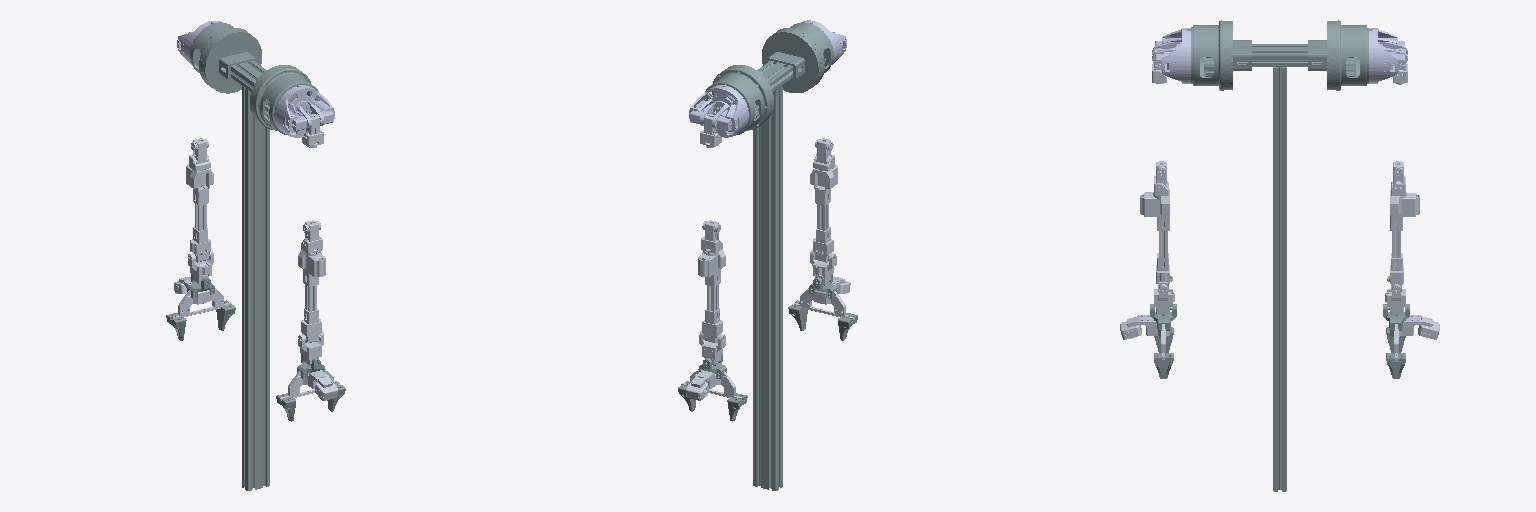
--- What the picture shows (computed from the rendered views, not written in the file) ---
Views: 3 orthographic renders of the robot side by side, from view 1: azimuth 30°, elevation 25°; view 2: azimuth 150°, elevation 25°; view 3: azimuth 270°, elevation 25°.
Model bessica_d_v2_1 with 23 links and 22 joints (14 revolute, 4 prismatic, 4 fixed), rooted at base_link, posed all joints at 0.
Links seen in each view (by area): view 1: base_link, left_arm_base_link, right_arm_base_link, right_arm_link1, right_arm_link5, left_arm_link5, right_arm_gripper_base, left_arm_gripper_base, left_arm_link4, right_arm_link4; view 2: base_link, right_arm_base_link, left_arm_base_link, left_arm_link1, left_arm_link5, right_arm_link5, left_arm_gripper_base, right_arm_gripper_base, right_arm_link4, left_arm_link4; view 3: base_link, right_arm_base_link, left_arm_base_link, left_arm_link1, right_arm_link1, right_arm_link5, left_arm_link5, left_arm_gripper_base, right_arm_gripper_base.
Link boxes in pixels (box(x1,y1,x2,y2)): base_link: box(224, 61, 269, 490); left_arm_base_link: box(190, 22, 261, 93); right_arm_base_link: box(250, 65, 318, 134); right_arm_link1: box(275, 85, 334, 137); right_arm_link5: box(298, 249, 325, 342); left_arm_link5: box(186, 164, 213, 262); right_arm_gripper_base: box(280, 369, 340, 400); left_arm_gripper_base: box(171, 277, 231, 318); left_arm_link4: box(189, 138, 210, 171); right_arm_link4: box(301, 220, 322, 253); base_link: box(753, 61, 799, 490); right_arm_base_link: box(762, 22, 833, 92); left_arm_base_link: box(705, 65, 773, 134); left_arm_link1: box(689, 84, 748, 137); left_arm_link5: box(698, 249, 725, 342); right_arm_link5: box(810, 164, 837, 262); left_arm_gripper_base: box(681, 369, 741, 400); right_arm_gripper_base: box(794, 277, 854, 320); right_arm_link4: box(813, 138, 834, 171); left_arm_link4: box(701, 220, 722, 253); base_link: box(1237, 44, 1322, 491); right_arm_base_link: box(1191, 20, 1251, 90); left_arm_base_link: box(1308, 20, 1368, 90); left_arm_link1: box(1369, 28, 1407, 83); right_arm_link1: box(1152, 28, 1190, 83); right_arm_link5: box(1140, 189, 1172, 291); left_arm_link5: box(1387, 190, 1419, 291); left_arm_gripper_base: box(1390, 315, 1439, 360); right_arm_gripper_base: box(1120, 315, 1169, 358).
Bounding box of the posed robot: 0.1604 × 0.6833 × 1.09 m (x, y, z).
21 mesh visuals loaded from 23 distinct referenced files (21 binary STL); not drawn: 2 (reference not matched to a file when rendering).

URDF robot description (bessica_d_v2_1):
<?xml version="1.0" encoding="utf-8" ?>
<!-- This URDF was automatically created by SolidWorks to URDF Exporter! Originally created by Stephen Brawner ([email redacted]) 
     Commit Version: 1.6.0-4-g7f85cfe  Build Version: 1.6.7995.38578
     For more information, please see http://wiki.ros.org/sw_urdf_exporter -->
<robot name="bessica_d_v2_1">
    <mujoco>
        <compiler meshdir="../meshes" balanceinertia="true" discardvisual="false" />
        <contact>
            <exclude body1="base_link" body2="left_arm_base_link" />
            <exclude body1="left_arm_base_link" body2="left_arm_link1" />
            <exclude body1="left_arm_link1" body2="left_arm_link2" />
            <exclude body1="left_arm_link2" body2="left_arm_link3" />
            <exclude body1="left_arm_link3" body2="left_arm_link4" />
            <exclude body1="left_arm_link4" body2="left_arm_link5" />
            <exclude body1="left_arm_link5" body2="left_arm_link6" />
            <exclude body1="left_arm_link6" body2="left_arm_link7" />
            <exclude body1="left_arm_link7" body2="left_arm_gripper_left_finger" />
            <exclude body1="left_arm_link7" body2="left_arm_gripper_right_finger" />
            <exclude body1="base_link" body2="right_arm_base_link" />
            <exclude body1="right_arm_base_link" body2="right_arm_link1" />
            <exclude body1="right_arm_link1" body2="right_arm_link2" />
            <exclude body1="right_arm_link2" body2="right_arm_link3" />
            <exclude body1="right_arm_link3" body2="right_arm_link4" />
            <exclude body1="right_arm_link4" body2="right_arm_link5" />
            <exclude body1="right_arm_link5" body2="right_arm_link6" />
            <exclude body1="right_arm_link6" body2="right_arm_link7" />
            <exclude body1="right_arm_link7" body2="right_arm_gripper_left_finger" />
            <exclude body1="right_arm_link7" body2="right_arm_gripper_right_finger" />
        </contact>
    </mujoco>
    <link name="base_link">
        <visual>
            <origin xyz="0 0 0" rpy="0 0 0" />
            <geometry>
                <mesh filename="package://bessica_d_description/meshes/base_link.STL" />
            </geometry>
            <material name="">
                <color rgba="0.592156862745098 0.666666666666667 0.682352941176471 1" />
            </material>
        </visual>
        <collision>
            <origin xyz="0 0 0" rpy="0 0 0" />
            <geometry>
                <mesh filename="package://bessica_d_description/meshes/base_link.STL" />
            </geometry>
        </collision>
        <inertial>
            <mass value="0.1" />
            <origin xyz="0 0 0" rpy="0 0 0" />
            <inertia ixx="0.03" iyy="0.03" izz="0.03" ixy="0.0" ixz="0.0" iyz="0.0" />
        </inertial>
    </link>
    <link name="left_arm_base_link">
        <visual>
            <origin xyz="0 0 0" rpy="0 0 0" />
            <geometry>
                <mesh filename="package://bessica_d_description/meshes/left_arm_base_link.STL" />
            </geometry>
            <material name="">
                <color rgba="0.592156862745098 0.666666666666667 0.682352941176471 1" />
            </material>
        </visual>
        <collision>
            <origin xyz="0 0 0" rpy="0 0 0" />
            <geometry>
                <mesh filename="package://bessica_d_description/meshes/left_arm_base_link.STL" />
            </geometry>
        </collision>
        <inertial>
            <mass value="0.1" />
            <origin xyz="0 0 0" rpy="0 0 0" />
            <inertia ixx="0.03" iyy="0.03" izz="0.03" ixy="0.0" ixz="0.0" iyz="0.0" />
        </inertial>
    </link>
    <joint name="left_arm_base_joint" type="fixed">
        <origin xyz="0 0.1 1.01500000066667" rpy="-1.5707963267949 0 0" />
        <parent link="base_link" />
        <child link="left_arm_base_link" />
        <axis xyz="0 0 0" />
    </joint>
    <link name="left_arm_link1">
        <inertial>
            <origin xyz="-0.000164977722784185 6.51727945009444E-05 -0.00243570338411384" rpy="0 0 0" />
            <mass value="0.189922225867714" />
            <inertia ixx="0.000146347772116188" ixy="8.97185586680608E-07" ixz="-1.12252162303393E-06" iyy="0.000249759799894508" iyz="-4.11548403173903E-07" izz="0.000330262694467369" />
        </inertial>
        <visual>
            <origin xyz="0 0 0" rpy="0 0 0" />
            <geometry>
                <mesh filename="package://bessica_d_description/meshes/left_arm_link1.STL" />
            </geometry>
            <material name="">
                <color rgba="0.796078431372549 0.823529411764706 0.937254901960784 1" />
            </material>
        </visual>
        <collision>
            <origin xyz="0 0 0" rpy="0 0 0" />
            <geometry>
                <mesh filename="package://bessica_d_description/meshes/left_arm_link1.STL" />
            </geometry>
        </collision>
    </link>
    <joint name="left_arm_joint1" type="revolute">
        <origin xyz="0 0 0.1145" rpy="3.14159265358979 0 0" />
        <parent link="left_arm_base_link" />
        <child link="left_arm_link1" />
        <axis xyz="0 0 1" />
        <limit lower="-2.14" upper="2.14" effort="12" velocity="5" />
    </joint>
    <link name="left_arm_link2">
        <inertial>
            <origin xyz="0.0292978987910792 0.000514105850466684 0.000371089505223361" rpy="0 0 0" />
            <mass value="0.0465252707223917" />
            <inertia ixx="7.30112380112833E-06" ixy="5.76060636775077E-07" ixz="-1.43192461618647E-06" iyy="1.56957054082706E-05" iyz="-1.34505028400512E-08" izz="1.49256044559259E-05" />
        </inertial>
        <visual>
            <origin xyz="0 0 0" rpy="0 0 0" />
            <geometry>
                <mesh filename="package://bessica_d_description/meshes/left_arm_link2.STL" />
            </geometry>
            <material name="">
                <color rgba="0.807843137254902 0.843137254901961 0.905882352941176 1" />
            </material>
        </visual>
        <collision>
            <origin xyz="0 0 0" rpy="0 0 0" />
            <geometry>
                <mesh filename="package://bessica_d_description/meshes/left_arm_link2.STL" />
            </geometry>
        </collision>
    </link>
    <joint name="left_arm_joint2" type="revolute">
        <origin xyz="0.000449999999998569 0 -0.04287" rpy="-1.5707963267949 0 -1.5707963267949" />
        <parent link="left_arm_link1" />
        <child link="left_arm_link2" />
        <axis xyz="0 0 1" />
        <limit lower="-0.25" upper="2.14" effort="12" velocity="5" />
    </joint>
    <link name="left_arm_link3">
        <inertial>
            <origin xyz="0.000585816890663893 2.67134447653953E-05 -0.120888401586103" rpy="0 0 0" />
            <mass value="0.213446468640546" />
            <inertia ixx="0.000225589752278573" ixy="-1.5155044694364E-08" ixz="2.43597245450492E-06" iyy="0.00014335125310894" iyz="-7.17913825480148E-08" izz="0.000161898121849544" />
        </inertial>
        <visual>
            <origin xyz="0 0 0" rpy="0 0 0" />
            <geometry>
                <mesh filename="package://bessica_d_description/meshes/left_arm_link3.STL" />
            </geometry>
            <material name="">
                <color rgba="0.807843137254902 0.843137254901961 0.905882352941176 1" />
            </material>
        </visual>
        <collision>
            <origin xyz="0 0 0" rpy="0 0 0" />
            <geometry>
                <mesh filename="package://bessica_d_description/meshes/left_arm_link3.STL" />
            </geometry>
        </collision>
    </link>
    <joint name="left_arm_joint3" type="revolute">
        <origin xyz="0.0639500000000051 -0.000100000000002043 -5.00000000017345E-05" rpy="1.5707963267949 0 -1.5707963267949" />
        <parent link="left_arm_link2" />
        <child link="left_arm_link3" />
        <axis xyz="0 0 -1" />
        <limit lower="-2.14" upper="2.14" effort="12" velocity="5" />
    </joint>
    <link name="left_arm_link4">
        <inertial>
            <origin xyz="-0.000541938878743597 0.0284058061970648 0.000320347235384871" rpy="0 0 0" />
            <mass value="0.0480071391158091" />
            <inertia ixx="1.64141913891155E-05" ixy="-5.7845673769066E-07" ixz="9.62946752561962E-09" iyy="7.54093815008541E-06" iyz="-1.52193904000395E-06" izz="1.55133391025038E-05" />
        </inertial>
        <visual>
            <origin xyz="0 0 0" rpy="0 0 0" />
            <geometry>
                <mesh filename="package://bessica_d_description/meshes/left_arm_link4.STL" />
            </geometry>
            <material name="">
                <color rgba="0.807843137254902 0.843137254901961 0.905882352941176 1" />
            </material>
        </visual>
        <collision>
            <origin xyz="0 0 0" rpy="0 0 0" />
            <geometry>
                <mesh filename="package://bessica_d_description/meshes/left_arm_link4.STL" />
            </geometry>
        </collision>
    </link>
    <joint name="left_arm_joint4" type="revolute">
        <origin xyz="0.00383999999999851 5.0000000004364E-05 -0.202609999999996" rpy="-1.57079632679489 0 0" />
        <parent link="left_arm_link3" />
        <child link="left_arm_link4" />
        <axis xyz="0 0 1" />
        <limit lower="-1.57" upper="1.57" effort="12" velocity="5" />
    </joint>
    <link name="left_arm_link5">
        <inertial>
            <origin xyz="-0.000910668202409481 -0.000236818946050908 -0.0811518411270211" rpy="0 0 0" />
            <mass value="0.116319653363722" />
            <inertia ixx="9.32787799992093E-05" ixy="-1.43207862251841E-08" ixz="3.45337326970064E-06" iyy="0.000100263941574271" iyz="1.15839563826208E-07" izz="3.8226465560725E-05" />
        </inertial>
        <visual>
            <origin xyz="0 0 0" rpy="0 0 0" />
            <geometry>
                <mesh filename="package://bessica_d_description/meshes/left_arm_link5.STL" />
            </geometry>
            <material name="">
                <color rgba="0.807843137254902 0.843137254901961 0.905882352941176 1" />
            </material>
        </visual>
        <collision>
            <origin xyz="0 0 0" rpy="0 0 0" />
            <geometry>
                <mesh filename="package://bessica_d_description/meshes/left_arm_link5.STL" />
            </geometry>
        </collision>
    </link>
    <joint name="left_arm_joint5" type="revolute">
        <origin xyz="0 0.0639500000000003 -0.000249999999995355" rpy="1.57079632679489 0 0" />
        <parent link="left_arm_link4" />
        <child link="left_arm_link5" />
        <axis xyz="0 0 -1" />
        <limit lower="-2.14" upper="2.14" effort="12" velocity="5" />
    </joint>
    <link name="left_arm_link6">
        <inertial>
            <origin xyz="0.000759194613479341 0.0240065523153092 4.41835628682764E-05" rpy="0 0 0" />
            <mass value="0.0325622574716058" />
            <inertia ixx="1.56755999138173E-05" ixy="1.61833904254131E-07" ixz="7.68617040825205E-09" iyy="1.27877692587564E-05" iyz="2.8459924750808E-08" izz="9.25035078924422E-06" />
        </inertial>
        <visual>
            <origin xyz="0 0 0" rpy="0 0 0" />
            <geometry>
                <mesh filename="package://bessica_d_description/meshes/left_arm_link6.STL" />
            </geometry>
            <material name="">
                <color rgba="0.807843137254902 0.843137254901961 0.905882352941176 1" />
            </material>
        </visual>
        <collision>
            <origin xyz="0 0 0" rpy="0 0 0" />
            <geometry>
                <mesh filename="package://bessica_d_description/meshes/left_arm_link6.STL" />
            </geometry>
        </collision>
    </link>
    <joint name="left_arm_joint6" type="revolute">
        <origin xyz="0.00384000000000206 0 -0.210600000000004" rpy="-1.57079632679489 0 0" />
        <parent link="left_arm_link5" />
        <child link="left_arm_link6" />
        <axis xyz="0 0 1" />
        <limit lower="-1.57" upper="1.57" effort="12" velocity="5" />
    </joint>
    <link name="left_arm_link7">
        <inertial>
            <origin xyz="0.0177009441165684 1.21978843153611E-05 0.000335001782082178" rpy="0 0 0" />
            <mass value="0.0286926698302179" />
            <inertia ixx="1.38664319212237E-05" ixy="6.17342972752011E-09" ixz="-6.29106498416858E-08" iyy="1.07947986839636E-05" iyz="-6.61591376223645E-09" izz="9.90947221972601E-06" />
        </inertial>
        <visual>
            <origin xyz="0 0 0" rpy="0 0 0" />
            <geometry>
                <mesh filename="package://bessica_d_description/meshes/left_arm_link7.STL" />
            </geometry>
            <material name="">
                <color rgba="0.592156862745098 0.666666666666667 0.682352941176471 1" />
            </material>
        </visual>
        <collision>
            <origin xyz="0 0 0" rpy="0 0 0" />
            <geometry>
                <mesh filename="package://bessica_d_description/meshes/left_arm_link7.STL" />
            </geometry>
        </collision>
    </link>
    <joint name="left_arm_joint7" type="revolute">
        <origin xyz="0.000900000000000928 0.0556000000000006 0" rpy="-1.5707963267949 0 1.5707963267949" />
        <parent link="left_arm_link6" />
        <child link="left_arm_link7" />
        <axis xyz="0 0 -1" />
        <limit lower="-1.57" upper="1.57" effort="12" velocity="5" />
    </joint>
    <link name="left_arm_gripper_base">
        <inertial>
            <origin xyz="0.0487203584260385 -0.000176674281962666 0.0340839884785232" rpy="0 0 0" />
            <mass value="0.101924990923369" />
            <inertia ixx="7.96904620280455E-05" ixy="2.09550360751484E-08" ixz="3.52058599123849E-06" iyy="3.14423593116517E-05" iyz="-9.78209339202269E-09" izz="7.43475827788386E-05" />
        </inertial>
        <visual>
            <origin xyz="0 0 0" rpy="0 0 0" />
            <geometry>
                <mesh filename="package://bessica_d_description/meshes/left_arm_gripper_base.STL" />
            </geometry>
            <material name="">
                <color rgba="0.807843137254902 0.843137254901961 0.905882352941176 1" />
            </material>
        </visual>
        <collision>
            <origin xyz="0 0 0" rpy="0 0 0" />
            <geometry>
                <mesh filename="package://bessica_d_description/meshes/left_arm_gripper_base.STL" />
            </geometry>
        </collision>
    </link>
    <joint name="left_arm_gripper_base_joint" type="fixed">
        <origin xyz="0 0 0" rpy="0 0 0" />
        <parent link="left_arm_link7" />
        <child link="left_arm_gripper_base" />
        <axis xyz="0 0 0" />
    </joint>
    <link name="left_arm_gripper_left_finger">
        <inertial>
            <origin xyz="-0.0434086639321445 -1.54744196345646E-08 -0.0111596340364527" rpy="0 0 0" />
            <mass value="0.0256462690106054" />
            <inertia ixx="5.13427082501846E-06" ixy="2.4476015523607E-11" ixz="-1.26430153583773E-06" iyy="6.46826196607971E-06" iyz="-4.17572060497099E-13" izz="8.03606713459157E-06" />
        </inertial>
        <visual>
            <origin xyz="0 0 0" rpy="0 0 0" />
            <geometry>
                <mesh filename="package://bessica_d_description/meshes/left_arm_gripper_left_finger.STL" />
            </geometry>
            <material name="">
                <color rgba="0.592156862745098 0.666666666666667 0.682352941176471 1" />
            </material>
        </visual>
        <collision>
            <origin xyz="0 0 0" rpy="0 0 0" />
            <geometry>
                <mesh filename="package://bessica_d_description/meshes/left_arm_gripper_left_finger.STL" />
            </geometry>
        </collision>
    </link>
    <joint name="left_arm_gripper_joint1" type="prismatic">
        <origin xyz="0.141279659620435 0.0499999999999949 4.99999999989953E-05" rpy="1.57079632679486 0 0" />
        <parent link="left_arm_gripper_base" />
        <child link="left_arm_gripper_left_finger" />
        <axis xyz="0 0 1" />
        <limit lower="0" upper="0.05" effort="12" velocity="5" />
    </joint>
    <link name="left_arm_gripper_right_finger">
        <inertial>
            <origin xyz="0.0978709957456659 -0.0611558150927951 5.00154803947939E-05" rpy="0 0 0" />
            <mass value="0.0256462690533079" />
            <inertia ixx="5.13427082582461E-06" ixy="-1.26430153770072E-06" ixz="-2.44813468131313E-11" iyy="8.03606718467521E-06" iyz="4.17408877377817E-13" izz="6.46826201535656E-06" />
        </inertial>
        <visual>
            <origin xyz="0 0 0" rpy="0 0 0" />
            <geometry>
                <mesh filename="package://bessica_d_description/meshes/left_arm_gripper_right_finger.STL" />
            </geometry>
            <material name="">
                <color rgba="0.592156862745098 0.666666666666667 0.682352941176471 1" />
            </material>
        </visual>
        <collision>
            <origin xyz="0 0 0" rpy="0 0 0" />
            <geometry>
                <mesh filename="package://bessica_d_description/meshes/left_arm_gripper_right_finger.STL" />
            </geometry>
        </collision>
    </link>
    <joint name="left_arm_gripper_joint2" type="prismatic">
        <origin xyz="0 0 0" rpy="0 0 0" />
        <parent link="left_arm_gripper_base" />
        <child link="left_arm_gripper_right_finger" />
        <axis xyz="0 -1 0" />
        <limit lower="-0.05" upper="0" effort="12" velocity="5" />
    </joint>
    <link name="right_arm_base_link">
        <visual>
            <origin xyz="0 0 0" rpy="0 0 0" />
            <geometry>
                <mesh filename="package://bessica_d_description/meshes/right_arm_base_link.STL" />
            </geometry>
            <material name="">
                <color rgba="0.592156862745098 0.666666666666667 0.682352941176471 1" />
            </material>
        </visual>
        <collision>
            <origin xyz="0 0 0" rpy="0 0 0" />
            <geometry>
                <mesh filename="package://bessica_d_description/meshes/right_arm_base_link.STL" />
            </geometry>
        </collision>
        <inertial>
            <mass value="0.1" />
            <origin xyz="0 0 0" rpy="0 0 0" />
            <inertia ixx="0.03" iyy="0.03" izz="0.03" ixy="0.0" ixz="0.0" iyz="0.0" />
        </inertial>
    </link>
    <joint name="right_arm_base_joint" type="fixed">
        <origin xyz="0 -0.1 1.01500000066667" rpy="1.5707963267949 0 0" />
        <parent link="base_link" />
        <child link="right_arm_base_link" />
        <axis xyz="0 0 0" />
    </joint>
    <link name="right_arm_link1">
        <inertial>
            <origin xyz="5.41404702287845E-05 6.54108681446706E-05 0.00226761786539081" rpy="0 0 0" />
            <mass value="0.189135928104252" />
            <inertia ixx="0.000146325899368165" ixy="-8.97098733928049E-07" ixz="-1.12251453991552E-06" iyy="0.000249739133125008" iyz="4.11555762771362E-07" izz="0.000330241998873376" />
        </inertial>
        <visual>
            <origin xyz="0 0 0" rpy="0 0 0" />
            <geometry>
                <mesh filename="package://bessica_d_description/meshes/right_arm_link1.STL" />
            </geometry>
            <material name="">
                <color rgba="0.796078431372549 0.823529411764706 0.937254901960784 1" />
            </material>
        </visual>
        <collision>
            <origin xyz="0 0 0" rpy="0 0 0" />
            <geometry>
                <mesh filename="package://bessica_d_description/meshes/right_arm_link1.STL" />
            </geometry>
        </collision>
    </link>
    <joint name="right_arm_joint1" type="revolute">
        <origin xyz="0 0 0.1145" rpy="0 0 0" />
        <parent link="right_arm_base_link" />
        <child link="right_arm_link1" />
        <axis xyz="0 0 -1" />
        <limit lower="-2.14" upper="2.14" effort="12" velocity="5" />
    </joint>
    <link name="right_arm_link2">
        <inertial>
            <origin xyz="0.0294208671216254 0.000476964264628787 6.89589001957562E-05" rpy="0 0 0" />
            <mass value="0.0501482304791557" />
            <inertia ixx="7.68324123453962E-06" ixy="5.76060636775076E-07" ixz="-1.43192461618645E-06" iyy="1.62270247131466E-05" iyz="-1.34505028400508E-08" izz="1.55418254850872E-05" />
        </inertial>
        <visual>
            <origin xyz="0 0 0" rpy="0 0 0" />
            <geometry>
                <mesh filename="package://bessica_d_description/meshes/right_arm_link2.STL" />
            </geometry>
            <material name="">
                <color rgba="0.807843137254902 0.843137254901961 0.905882352941176 1" />
            </material>
        </visual>
        <collision>
            <origin xyz="0 0 0" rpy="0 0 0" />
            <geometry>
                <mesh filename="package://bessica_d_description/meshes/right_arm_link2.STL" />
            </geometry>
        </collision>
    </link>
    <joint name="right_arm_joint2" type="revolute">
        <origin xyz="-0.000450000000003194 0 0.04287" rpy="1.5707963267949 0 -1.5707963267949" />
        <parent link="right_arm_link1" />
        <child link="right_arm_link2" />
        <axis xyz="0 0 1" />
        <limit lower="-0.25" upper="2.14" effort="12" velocity="5" />
    </joint>
    <link name="right_arm_link3">
        <inertial>
            <origin xyz="0.000585816809109463 -2.67136522423358E-05 0.120888400266339" rpy="0 0 0" />
            <mass value="0.213446471207483" />
            <inertia ixx="0.000225589753877211" ixy="1.51549990964315E-08" ixz="-2.43597248062431E-06" iyy="0.000143351253925419" iyz="-7.17922215577811E-08" izz="0.000161898122637632" />
        </inertial>
        <visual>
            <origin xyz="0 0 0" rpy="0 0 0" />
            <geometry>
                <mesh filename="package://bessica_d_description/meshes/right_arm_link3.STL" />
            </geometry>
            <material name="">
                <color rgba="0.807843137254902 0.843137254901961 0.905882352941176 1" />
            </material>
        </visual>
        <collision>
            <origin xyz="0 0 0" rpy="0 0 0" />
            <geometry>
                <mesh filename="package://bessica_d_description/meshes/right_arm_link3.STL" />
            </geometry>
        </collision>
    </link>
    <joint name="right_arm_joint3" type="revolute">
        <origin xyz="0.0639500000000051 -0.000100000000002043 -5.00000000018359E-05" rpy="-1.5707963267949 0 -1.5707963267949" />
        <parent link="right_arm_link2" />
        <child link="right_arm_link3" />
        <axis xyz="0 0 1" />
        <limit lower="-2.14" upper="2.14" effort="12" velocity="5" />
    </joint>
    <link name="right_arm_link4">
        <inertial>
            <origin xyz="-0.000541938878781345 0.0284058061970335 0.000320347235456701" rpy="0 0 0" />
            <mass value="0.0480071391155925" />
            <inertia ixx="1.64141913890448E-05" ixy="-5.78456737665048E-07" ixz="9.6294675061873E-09" iyy="7.54093815004724E-06" iyz="-1.52193904003985E-06" izz="1.55133391024455E-05" />
        </inertial>
        <visual>
            <origin xyz="0 0 0" rpy="0 0 0" />
            <geometry>
                <mesh filename="package://bessica_d_description/meshes/right_arm_link4.STL" />
            </geometry>
            <material name="">
                <color rgba="0.807843137254902 0.843137254901961 0.905882352941176 1" />
            </material>
        </visual>
        <collision>
            <origin xyz="0 0 0" rpy="0 0 0" />
            <geometry>
                <mesh filename="package://bessica_d_description/meshes/right_arm_link4.STL" />
            </geometry>
        </collision>
    </link>
    <joint name="right_arm_joint4" type="revolute">
        <origin xyz="0.00383999999999868 -5.00000000043614E-05 0.202609999999996" rpy="1.5707963267949 0 0" />
        <parent link="right_arm_link3" />
        <child link="right_arm_link4" />
        <axis xyz="0 0 -1" />
        <limit lower="-1.57" upper="1.57" effort="12" velocity="5" />
    </joint>
    <link name="right_arm_link5">
        <inertial>
            <origin xyz="-0.000910668202409259 0.000236818946051091 0.0811518411270223" rpy="0 0 0" />
            <mass value="0.116319653363723" />
            <inertia ixx="9.32787799992096E-05" ixy="1.43207862252008E-08" ixz="-3.45337326970064E-06" iyy="0.000100263941574272" iyz="1.15839563826274E-07" izz="3.82264655607251E-05" />
        </inertial>
        <visual>
            <origin xyz="0 0 0" rpy="0 0 0" />
            <geometry>
                <mesh filename="package://bessica_d_description/meshes/right_arm_link5.STL" />
            </geometry>
            <material name="">
                <color rgba="0.807843137254902 0.843137254901961 0.905882352941176 1" />
            </material>
        </visual>
        <collision>
            <origin xyz="0 0 0" rpy="0 0 0" />
            <geometry>
                <mesh filename="package://bessica_d_description/meshes/right_arm_link5.STL" />
            </geometry>
        </collision>
    </link>
    <joint name="right_arm_joint5" type="revolute">
        <origin xyz="0 0.0639500000000003 -0.000249999999995355" rpy="-1.5707963267949 0 0" />
        <parent link="right_arm_link4" />
        <child link="right_arm_link5" />
        <axis xyz="0 0 1" />
        <limit lower="-2.14" upper="2.14" effort="12" velocity="5" />
    </joint>
    <link name="right_arm_link6">
        <inertial>
            <origin xyz="0.000759194613479314 0.0240065523153093 4.41835628681747E-05" rpy="0 0 0" />
            <mass value="0.0325622574716058" />
            <inertia ixx="1.56755999138173E-05" ixy="1.61833904254118E-07" ixz="7.68617040825267E-09" iyy="1.27877692587564E-05" iyz="2.84599247508302E-08" izz="9.25035078924421E-06" />
        </inertial>
        <visual>
            <origin xyz="0 0 0" rpy="0 0 0" />
            <geometry>
                <mesh filename="package://bessica_d_description/meshes/right_arm_link6.STL" />
            </geometry>
            <material name="">
                <color rgba="0.807843137254902 0.843137254901961 0.905882352941176 1" />
            </material>
        </visual>
        <collision>
            <origin xyz="0 0 0" rpy="0 0 0" />
            <geometry>
                <mesh filename="package://bessica_d_description/meshes/right_arm_link6.STL" />
            </geometry>
        </collision>
    </link>
    <joint name="right_arm_joint6" type="revolute">
        <origin xyz="0.00384000000000215 0 0.210600000000004" rpy="1.5707963267949 0 0" />
        <parent link="right_arm_link5" />
        <child link="right_arm_link6" />
        <axis xyz="0 0 -1" />
        <limit lower="-1.57" upper="1.57" effort="12" velocity="5" />
    </joint>
    <link name="right_arm_link7">
        <inertial>
            <origin xyz="0.0177009441165683 1.21978843153001E-05 0.000335001782081151" rpy="0 0 0" />
            <mass value="0.028692669830218" />
            <inertia ixx="1.38664319212237E-05" ixy="6.17342972753657E-09" ixz="-6.29106498416753E-08" iyy="1.07947986839637E-05" iyz="-6.61591376222127E-09" izz="9.90947221972603E-06" />
        </inertial>
        <visual>
            <origin xyz="0 0 0" rpy="0 0 0" />
            <geometry>
                <mesh filename="package://bessica_d_description/meshes/right_arm_link7.STL" />
            </geometry>
            <material name="">
                <color rgba="0.592156862745098 0.666666666666667 0.682352941176471 1" />
            </material>
        </visual>
        <collision>
            <origin xyz="0 0 0" rpy="0 0 0" />
            <geometry>
                <mesh filename="package://bessica_d_description/meshes/right_arm_link7.STL" />
            </geometry>
        </collision>
    </link>
    <joint name="right_arm_joint7" type="revolute">
        <origin xyz="0.000899999999999929 0.0556000000000009 0" rpy="-1.5707963267949 0 1.5707963267949" />
        <parent link="right_arm_link6" />
        <child link="right_arm_link7" />
        <axis xyz="0 0 -1" />
        <limit lower="-1.57" upper="1.57" effort="12" velocity="5" />
    </joint>
    <link name="right_arm_gripper_base">
        <inertial>
            <origin xyz="0.0487203584260383 -0.00017667428196256 0.0340839884785222" rpy="0 0 0" />
            <mass value="0.101924990923369" />
            <inertia ixx="7.96904620280456E-05" ixy="2.0955036075214E-08" ixz="3.52058599123841E-06" iyy="3.14423593116519E-05" iyz="-9.78209339197712E-09" izz="7.43475827788387E-05" />
        </inertial>
        <visual>
            <origin xyz="0 0 0" rpy="0 0 0" />
            <geometry>
                <mesh filename="package://bessica_d_description/meshes/right_arm_gripper_base.STL" />
            </geometry>
            <material name="">
                <color rgba="0.807843137254902 0.843137254901961 0.905882352941176 1" />
            </material>
        </visual>
        <collision>
            <origin xyz="0 0 0" rpy="0 0 0" />
            <geometry>
                <mesh filename="package://bessica_d_description/meshes/right_arm_gripper_base.STL" />
            </geometry>
        </collision>
    </link>
    <joint name="right_arm_gripper_base_joint" type="fixed">
        <origin xyz="0 0 0" rpy="0 0 0" />
        <parent link="right_arm_link7" />
        <child link="right_arm_gripper_base" />
        <axis xyz="0 0 0" />
    </joint>
    <link name="right_arm_gripper_left_finger">
        <inertial>
            <origin xyz="-0.0434086639756549 -1.54793821649513E-08 -0.0106596340384053" rpy="0 0 0" />
            <mass value="0.0256462689783714" />
            <inertia ixx="5.1342708245089E-06" ixy="2.44804619079174E-11" ixz="-1.264301534474E-06" iyy="6.46826192853306E-06" iyz="-4.1743082149925E-13" izz="8.03606709651843E-06" />
        </inertial>
        <visual>
            <origin xyz="0 0 0" rpy="0 0 0" />
            <geometry>
                <mesh filename="package://bessica_d_description/meshes/right_arm_gripper_left_finger.STL" />
            </geometry>
            <material name="">
                <color rgba="0.592156862745098 0.666666666666667 0.682352941176471 1" />
            </material>
        </visual>
        <collision>
            <origin xyz="0 0 0" rpy="0 0 0" />
            <geometry>
                <mesh filename="package://bessica_d_description/meshes/right_arm_gripper_left_finger.STL" />
            </geometry>
        </collision>
    </link>
    <joint name="right_arm_gripper_joint1" type="prismatic">
        <origin xyz="0.141279659620435 0.0504999999999951 4.99999999979128E-05" rpy="1.57079632679486 0 0" />
        <parent link="right_arm_gripper_base" />
        <child link="right_arm_gripper_left_finger" />
        <axis xyz="0 0 1" />
        <limit lower="0" upper="0.05" effort="12" velocity="5" />
    </joint>
    <link name="right_arm_gripper_right_finger">
        <inertial>
            <origin xyz="-0.0434086638804374 -1.54805618046705E-08 -0.0106558150931387" rpy="0 0 0" />
            <mass value="0.025646269049064" />
            <inertia ixx="5.13427082566662E-06" ixy="2.44814973433412E-11" ixz="-1.26430153743549E-06" iyy="6.46826201050235E-06" iyz="-4.17400491635439E-13" izz="8.03606717969018E-06" />
        </inertial>
        <visual>
            <origin xyz="0 0 0" rpy="0 0 0" />
            <geometry>
                <mesh filename="package://bessica_d_description/meshes/right_arm_gripper_right_finger.STL" />
            </geometry>
            <material name="">
                <color rgba="0.592156862745098 0.666666666666667 0.682352941176471 1" />
            </material>
        </visual>
        <collision>
            <origin xyz="0 0 0" rpy="0 0 0" />
            <geometry>
                <mesh filename="package://bessica_d_description/meshes/right_arm_gripper_right_finger.STL" />
            </geometry>
        </collision>
    </link>
    <joint name="right_arm_gripper_joint2" type="prismatic">
        <origin xyz="0.141279659620434 -0.0505000000000061 5.00000000016043E-05" rpy="-1.57079632679493 0 0" />
        <parent link="right_arm_gripper_base" />
        <child link="right_arm_gripper_right_finger" />
        <axis xyz="0 0 -1" />
        <limit lower="-0.05" upper="0" effort="12" velocity="5" />
    </joint>
    <transmission name="trans_left_arm_joint1">
        <type>transmission_interface/SimpleTransmission</type>
        <joint name="left_arm_joint1">
            <hardwareInterface>hardware_interface/EffortJointInterface</hardwareInterface>
        </joint>
        <actuator name="left_arm_joint1_motor">
            <hardwareInterface>hardware_interface/EffortJointInterface</hardwareInterface>
            <mechanicalReduction>1</mechanicalReduction>
        </actuator>
    </transmission>
    <transmission name="trans_left_arm_joint2">
        <type>transmission_interface/SimpleTransmission</type>
        <joint name="left_arm_joint2">
            <hardwareInterface>hardware_interface/EffortJointInterface</hardwareInterface>
        </joint>
        <actuator name="left_arm_joint2_motor">
            <hardwareInterface>hardware_interface/EffortJointInterface</hardwareInterface>
            <mechanicalReduction>1</mechanicalReduction>
        </actuator>
    </transmission>
    <transmission name="trans_left_arm_joint3">
        <type>transmission_interface/SimpleTransmission</type>
        <joint name="left_arm_joint3">
            <hardwareInterface>hardware_interface/EffortJointInterface</hardwareInterface>
        </joint>
        <actuator name="left_arm_joint3_motor">
            <hardwareInterface>hardware_interface/EffortJointInterface</hardwareInterface>
            <mechanicalReduction>1</mechanicalReduction>
        </actuator>
    </transmission>
    <transmission name="trans_left_arm_joint4">
        <type>transmission_interface/SimpleTransmission</type>
        <joint name="left_arm_joint4">
            <hardwareInterface>hardware_interface/EffortJointInterface</hardwareInterface>
        </joint>
        <actuator name="left_arm_joint4_motor">
            <hardwareInterface>hardware_interface/EffortJointInterface</hardwareInterface>
            <mechanicalReduction>1</mechanicalReduction>
        </actuator>
    </transmission>
    <transmission name="trans_left_arm_joint5">
        <type>transmission_interface/SimpleTransmission</type>
        <joint name="left_arm_joint5">
            <hardwareInterface>hardware_interface/EffortJointInterface</hardwareInterface>
        </joint>
        <actuator name="left_arm_joint5_motor">
            <hardwareInterface>hardware_interface/EffortJointInterface</hardwareInterface>
            <mechanicalReduction>1</mechanicalReduction>
        </actuator>
    </transmission>
    <transmission name="trans_left_arm_joint6">
        <type>transmission_interface/SimpleTransmission</type>
        <joint name="left_arm_joint6">
            <hardwareInterface>hardware_interface/EffortJointInterface</hardwareInterface>
        </joint>
        <actuator name="left_arm_joint6_motor">
            <hardwareInterface>hardware_interface/EffortJointInterface</hardwareInterface>
            <mechanicalReduction>1</mechanicalReduction>
        </actuator>
    </transmission>
    <transmission name="trans_left_arm_joint7">
        <type>transmission_interface/SimpleTransmission</type>
        <joint name="left_arm_joint7">
            <hardwareInterface>hardware_interface/EffortJointInterface</hardwareInterface>
        </joint>
        <actuator name="left_arm_joint7_motor">
            <hardwareInterface>hardware_interface/EffortJointInterface</hardwareInterface>
            <mechanicalReduction>1</mechanicalReduction>
        </actuator>
    </transmission>
    <transmission name="trans_left_arm_gripper_joint1">
        <type>transmission_interface/SimpleTransmission</type>
        <joint name="left_arm_gripper_joint1">
            <hardwareInterface>hardware_interface/EffortJointInterface</hardwareInterface>
        </joint>
        <actuator name="left_arm_gripper_joint1_motor">
            <hardwareInterface>hardware_interface/EffortJointInterface</hardwareInterface>
            <mechanicalReduction>1</mechanicalReduction>
        </actuator>
    </transmission>
    <transmission name="trans_left_arm_gripper_joint2">
        <type>transmission_interface/SimpleTransmission</type>
        <joint name="left_arm_gripper_joint2">
            <hardwareInterface>hardware_interface/EffortJointInterface</hardwareInterface>
        </joint>
        <actuator name="left_arm_gripper_joint2_motor">
            <hardwareInterface>hardware_interface/EffortJointInterface</hardwareInterface>
            <mechanicalReduction>1</mechanicalReduction>
        </actuator>
    </transmission>
    <transmission name="trans_right_arm_joint1">
        <type>transmission_interface/SimpleTransmission</type>
        <joint name="right_arm_joint1">
            <hardwareInterface>hardware_interface/EffortJointInterface</hardwareInterface>
        </joint>
        <actuator name="right_arm_joint1_motor">
            <hardwareInterface>hardware_interface/EffortJointInterface</hardwareInterface>
            <mechanicalReduction>1</mechanicalReduction>
        </actuator>
    </transmission>
    <transmission name="trans_right_arm_joint2">
        <type>transmission_interface/SimpleTransmission</type>
        <joint name="right_arm_joint2">
            <hardwareInterface>hardware_interface/EffortJointInterface</hardwareInterface>
        </joint>
        <actuator name="right_arm_joint2_motor">
            <hardwareInterface>hardware_interface/EffortJointInterface</hardwareInterface>
            <mechanicalReduction>1</mechanicalReduction>
        </actuator>
    </transmission>
    <transmission name="trans_right_arm_joint3">
        <type>transmission_interface/SimpleTransmission</type>
        <joint name="right_arm_joint3">
            <hardwareInterface>hardware_interface/EffortJointInterface</hardwareInterface>
        </joint>
        <actuator name="right_arm_joint3_motor">
            <hardwareInterface>hardware_interface/EffortJointInterface</hardwareInterface>
            <mechanicalReduction>1</mechanicalReduction>
        </actuator>
    </transmission>
    <transmission name="trans_right_arm_joint4">
        <type>transmission_interface/SimpleTransmission</type>
        <joint name="right_arm_joint4">
            <hardwareInterface>hardware_interface/EffortJointInterface</hardwareInterface>
        </joint>
        <actuator name="right_arm_joint4_motor">
            <hardwareInterface>hardware_interface/EffortJointInterface</hardwareInterface>
            <mechanicalReduction>1</mechanicalReduction>
        </actuator>
    </transmission>
    <transmission name="trans_right_arm_joint5">
        <type>transmission_interface/SimpleTransmission</type>
        <joint name="right_arm_joint5">
            <hardwareInterface>hardware_interface/EffortJointInterface</hardwareInterface>
        </joint>
        <actuator name="right_arm_joint5_motor">
            <hardwareInterface>hardware_interface/EffortJointInterface</hardwareInterface>
            <mechanicalReduction>1</mechanicalReduction>
        </actuator>
    </transmission>
    <transmission name="trans_right_arm_joint6">
        <type>transmission_interface/SimpleTransmission</type>
        <joint name="right_arm_joint6">
            <hardwareInterface>hardware_interface/EffortJointInterface</hardwareInterface>
        </joint>
        <actuator name="right_arm_joint6_motor">
            <hardwareInterface>hardware_interface/EffortJointInterface</hardwareInterface>
            <mechanicalReduction>1</mechanicalReduction>
        </actuator>
    </transmission>
    <transmission name="trans_right_arm_joint7">
        <type>transmission_interface/SimpleTransmission</type>
        <joint name="right_arm_joint7">
            <hardwareInterface>hardware_interface/EffortJointInterface</hardwareInterface>
        </joint>
        <actuator name="right_arm_joint7_motor">
            <hardwareInterface>hardware_interface/EffortJointInterface</hardwareInterface>
            <mechanicalReduction>1</mechanicalReduction>
        </actuator>
    </transmission>
    <transmission name="trans_right_arm_gripper_joint1">
        <type>transmission_interface/SimpleTransmission</type>
        <joint name="right_arm_gripper_joint1">
            <hardwareInterface>hardware_interface/EffortJointInterface</hardwareInterface>
        </joint>
        <actuator name="right_arm_gripper_joint1_motor">
            <hardwareInterface>hardware_interface/EffortJointInterface</hardwareInterface>
            <mechanicalReduction>1</mechanicalReduction>
        </actuator>
    </transmission>
    <transmission name="trans_right_arm_gripper_joint2">
        <type>transmission_interface/SimpleTransmission</type>
        <joint name="right_arm_gripper_joint2">
            <hardwareInterface>hardware_interface/EffortJointInterface</hardwareInterface>
        </joint>
        <actuator name="right_arm_gripper_joint2_motor">
            <hardwareInterface>hardware_interface/EffortJointInterface</hardwareInterface>
            <mechanicalReduction>1</mechanicalReduction>
        </actuator>
    </transmission>
    <gazebo>
        <plugin name="gazebo_ros_control" filename="libgazebo_ros_control.so">
            <robotNamespace>/</robotNamespace>
        </plugin>
    </gazebo>
</robot>
